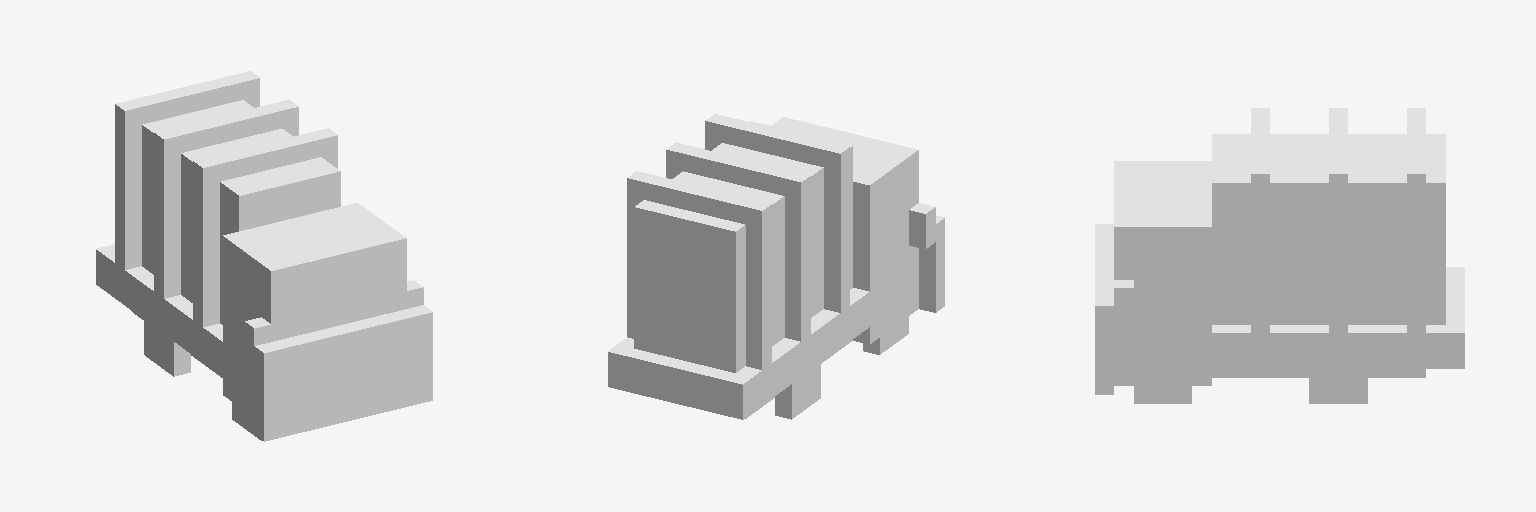
Rendered from CrossyTruck.obj.
3 views of the same model, side by side, from view 1: azimuth 30°, elevation 25°; view 2: azimuth 150°, elevation 25°; view 3: azimuth 270°, elevation 25° (orthographic).
Parts seen in each view (by area): view 1: object 1; view 2: object 1; view 3: object 1.
Boxes of the visible parts, x1,y1,x2,y2 form: object 1: [96, 71, 432, 441]; object 1: [608, 114, 944, 419]; object 1: [1095, 108, 1464, 403].
Bounding box in the file's own units: 1 × 1.3 × 1.9.